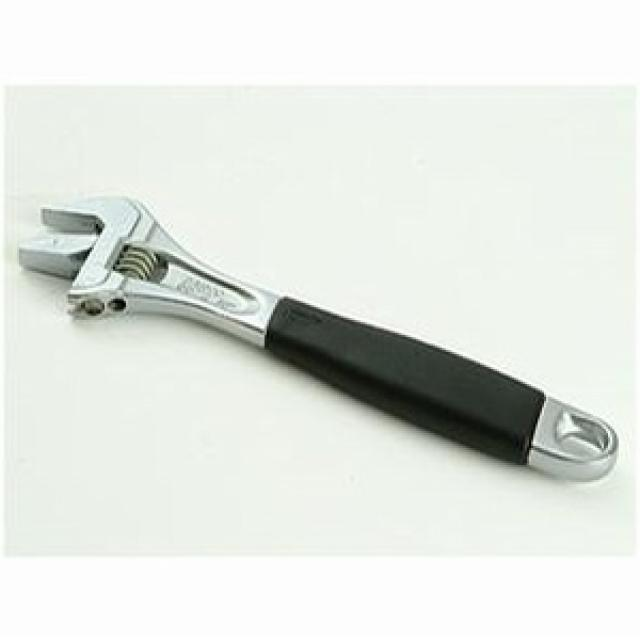wrench: (10, 184, 622, 486)
